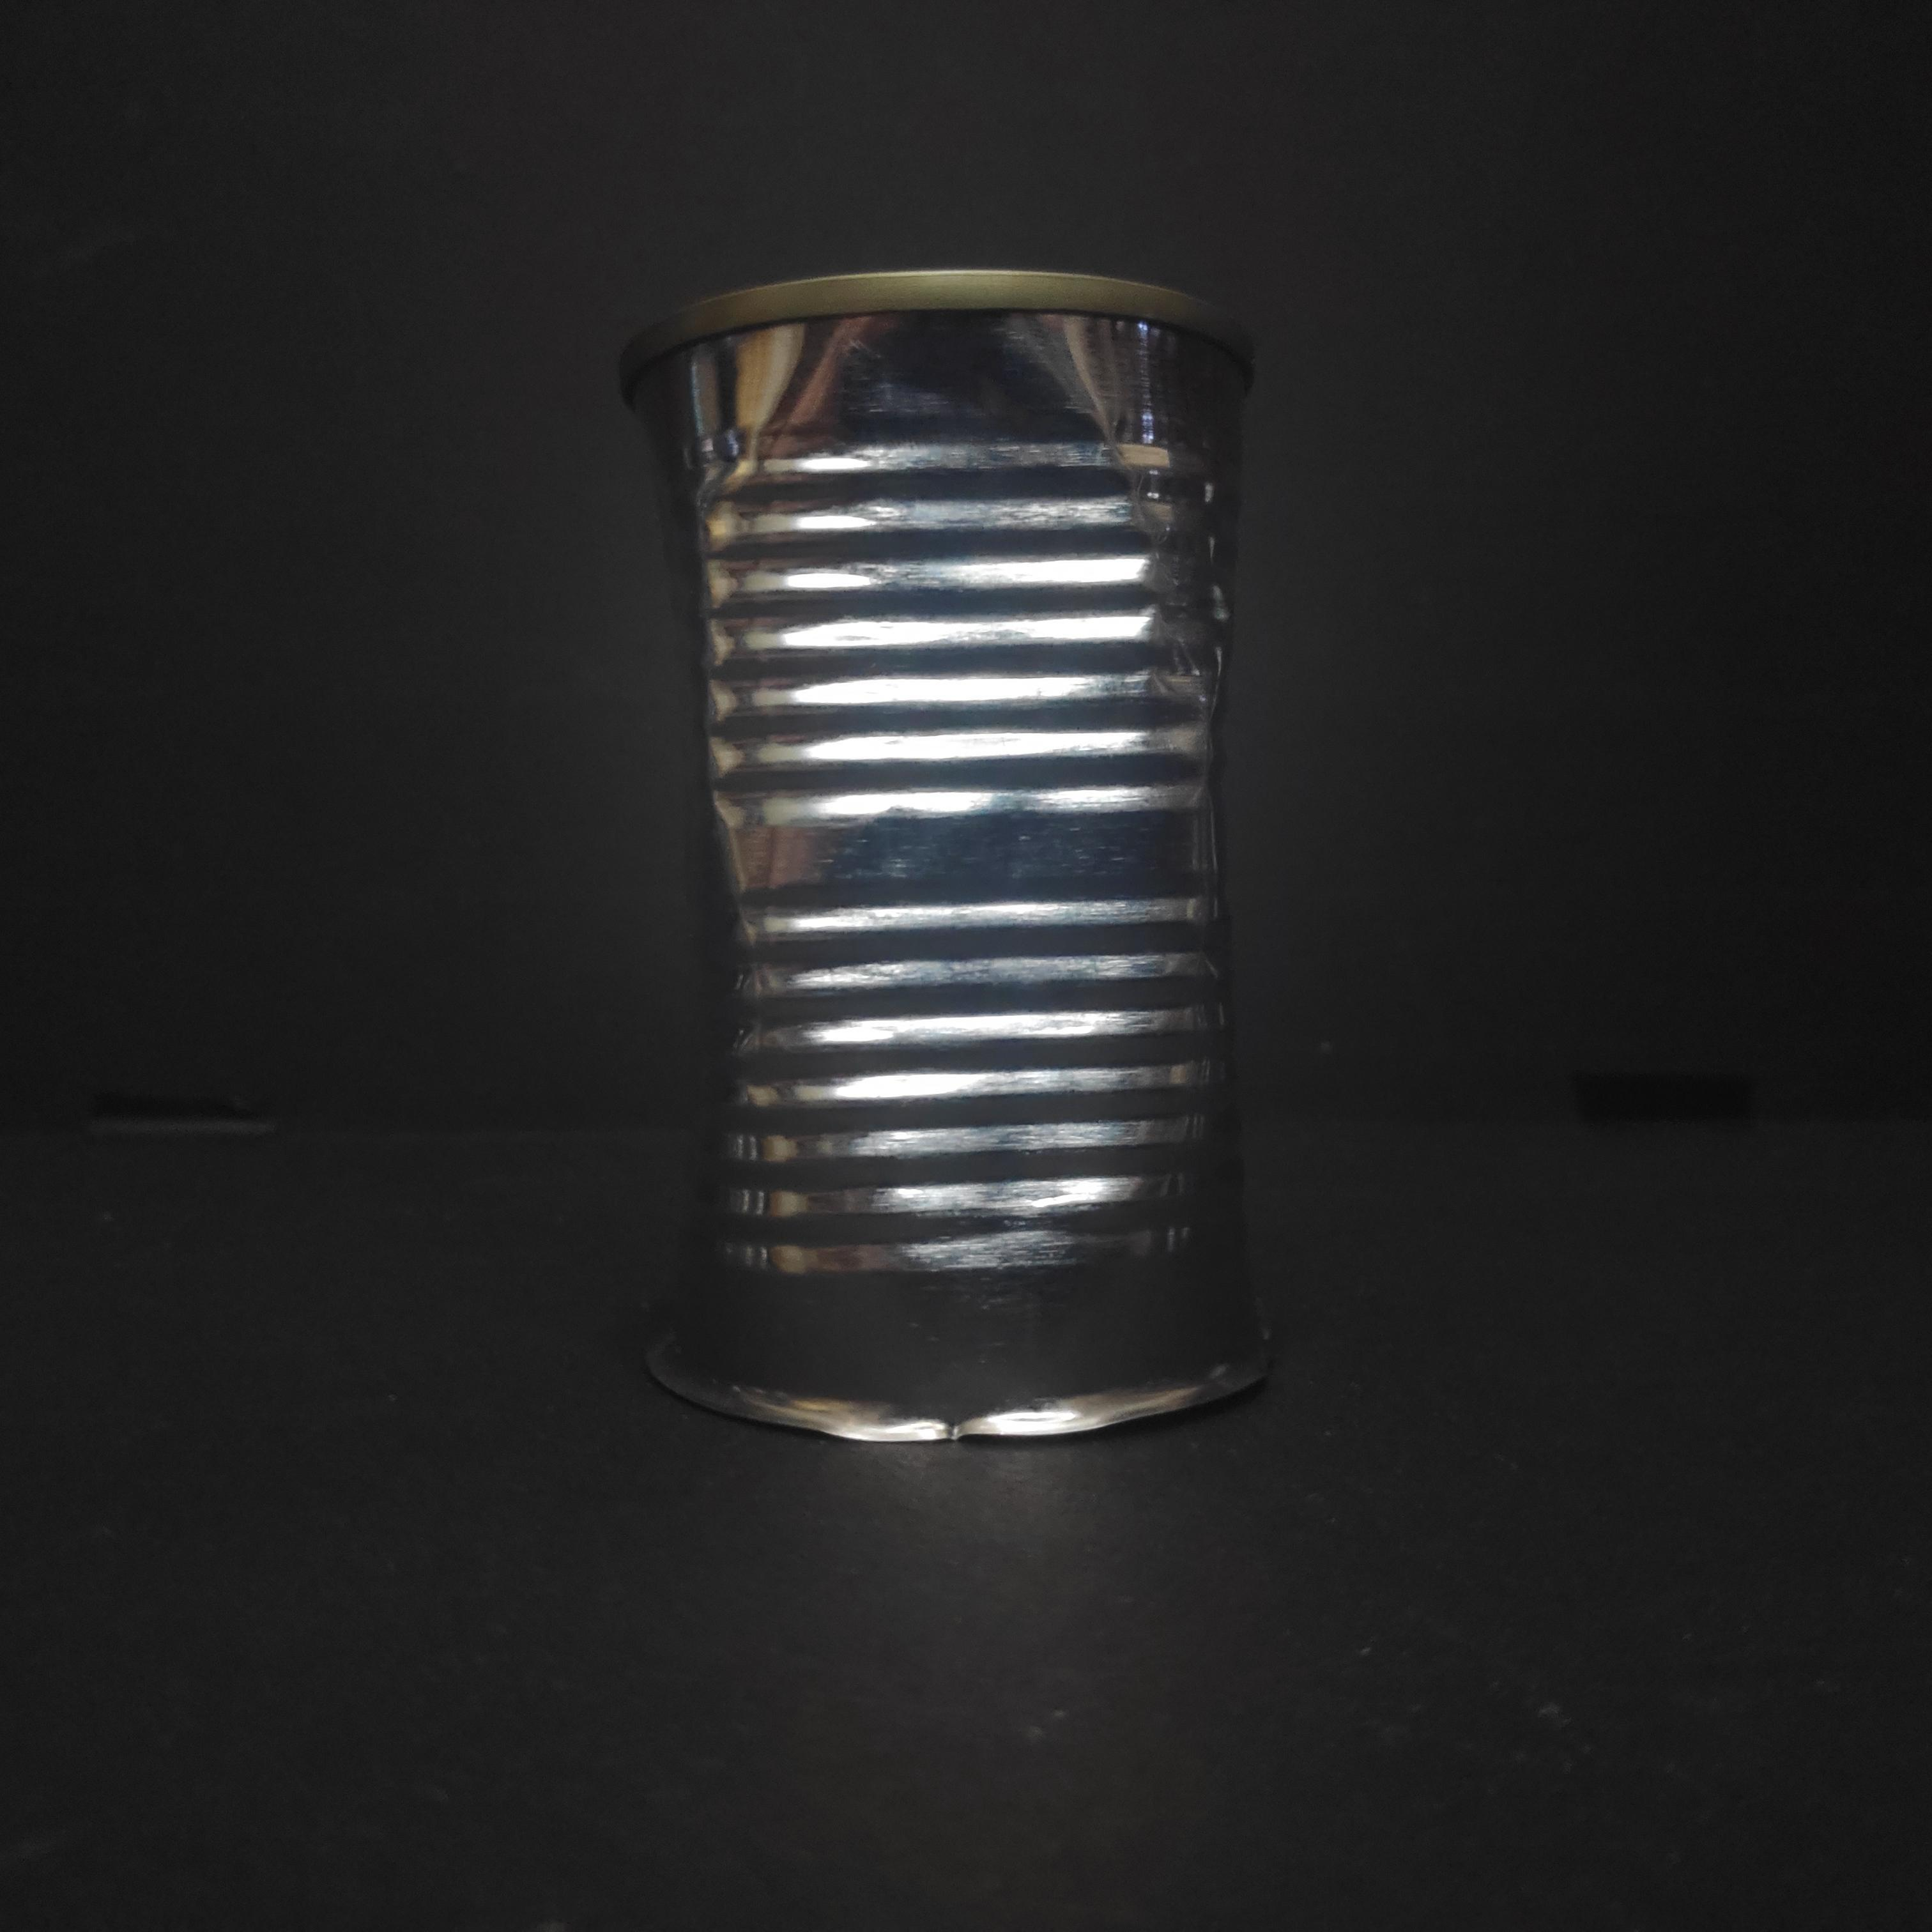Dented: (623, 242, 1304, 1472)
